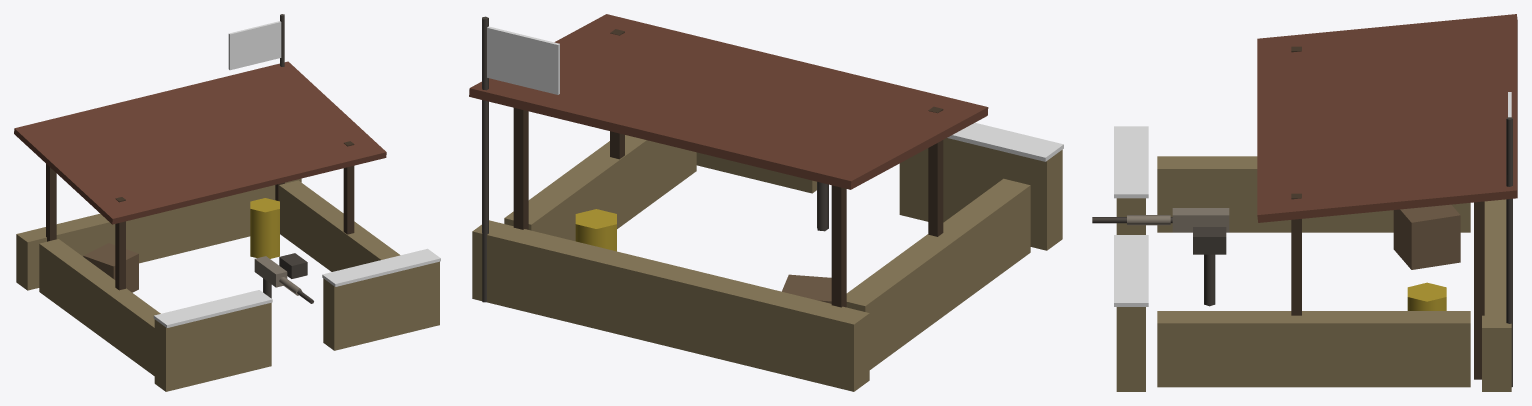
3 views of the same model, side by side, from view 1: azimuth 30°, elevation 25°; view 2: azimuth 150°, elevation 25°; view 3: azimuth 270°, elevation 25° (orthographic). The views are drawn at different scales.
Parts seen in each view (by area): view 1: raider_building_mg_nest; view 2: raider_building_mg_nest; view 3: raider_building_mg_nest.
Part boxes in pixels (x1,y1,x2,y2): raider_building_mg_nest: (14, 14, 440, 391); raider_building_mg_nest: (469, 14, 1063, 391); raider_building_mg_nest: (1092, 14, 1517, 391).
Size of the model in its own units: 4.8 by 3.4 by 4.89.
